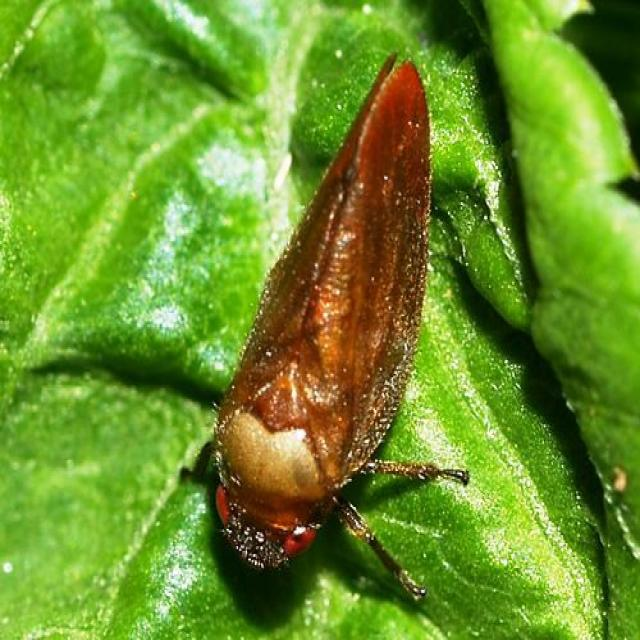Yechan: (174, 35, 467, 604)
